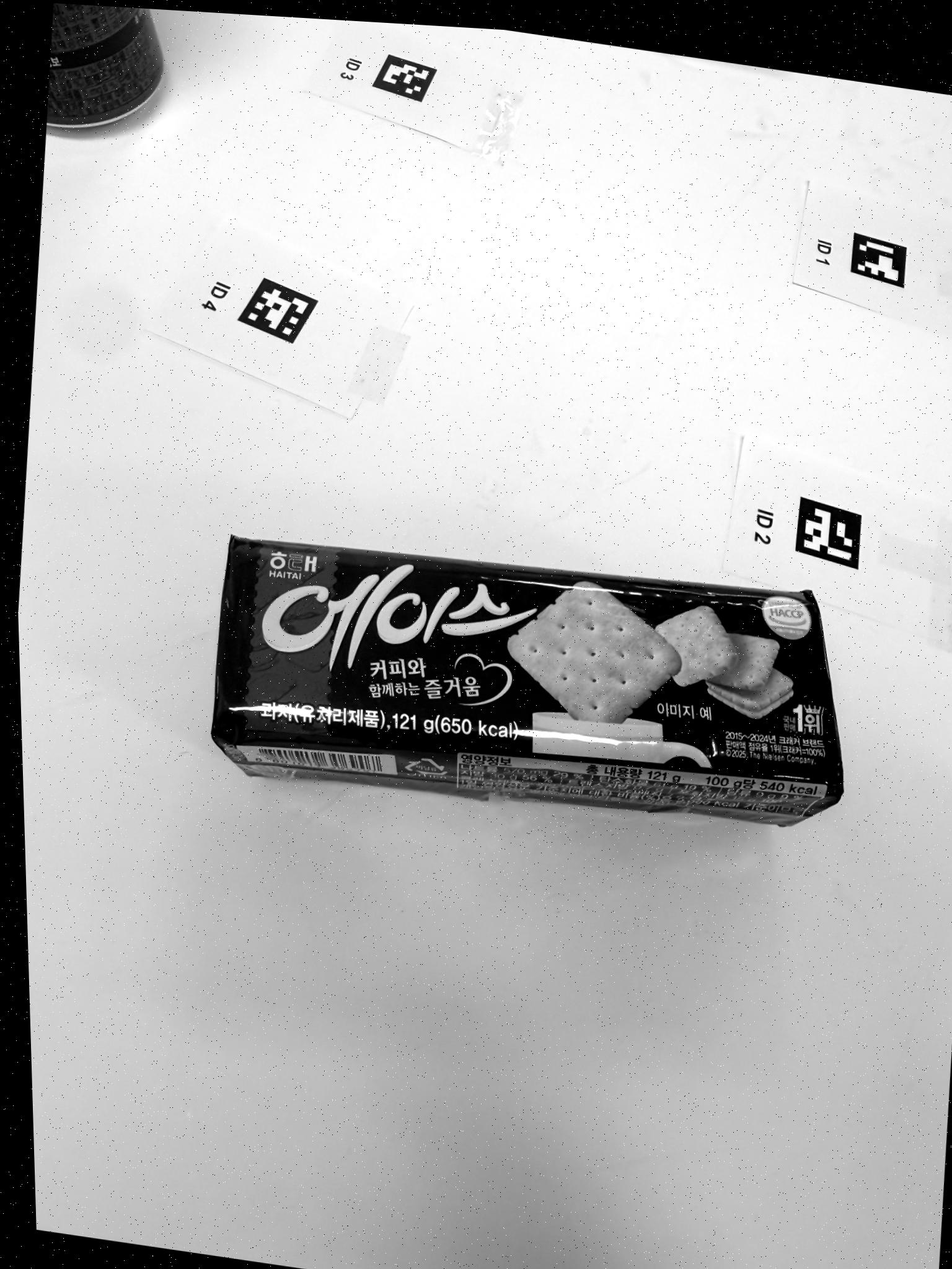cracker_ace: (212, 536, 843, 826)
